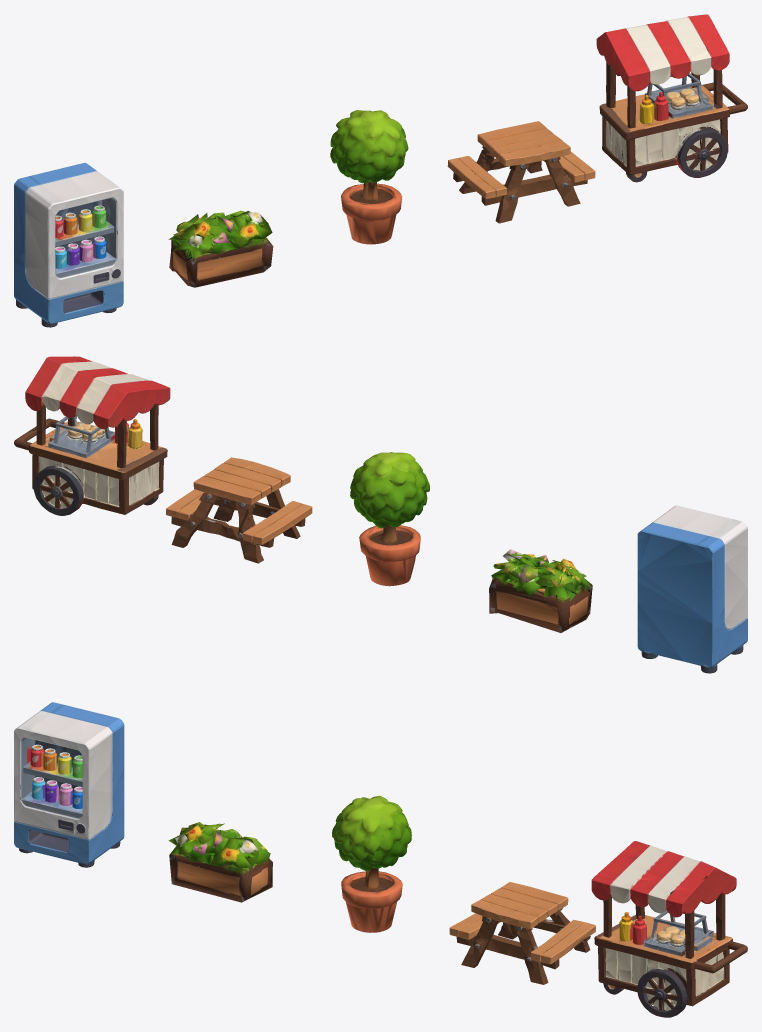
The model's file is props2.glb.
3 renders of one model, top to bottom at view 1: azimuth 30°, elevation 25°; view 2: azimuth 150°, elevation 25°; view 3: azimuth 330°, elevation 25°, orthographic.
Parts seen in each view (by area): view 1: cart, vending, picnic, topiary, planter; view 2: cart, vending, picnic, topiary, planter; view 3: cart, vending, picnic, topiary, planter.
Part boxes in pixels (left/top/right/bottom): cart: left=596, top=14, right=747, bottom=182; vending: left=14, top=162, right=123, bottom=327; picnic: left=447, top=121, right=595, bottom=223; topiary: left=330, top=110, right=408, bottom=244; planter: left=168, top=210, right=273, bottom=287; cart: left=14, top=356, right=170, bottom=515; vending: left=637, top=505, right=747, bottom=673; picnic: left=166, top=457, right=312, bottom=563; topiary: left=350, top=452, right=429, bottom=586; planter: left=489, top=549, right=592, bottom=632; cart: left=591, top=841, right=747, bottom=1017; vending: left=14, top=702, right=124, bottom=867; picnic: left=449, top=882, right=595, bottom=984; topiary: left=332, top=795, right=411, bottom=932; planter: left=168, top=822, right=272, bottom=902.
Bounding box in the file's own units: 9.34 × 1.76 × 1.21.
Materials: 5 (5 with a texture image).
